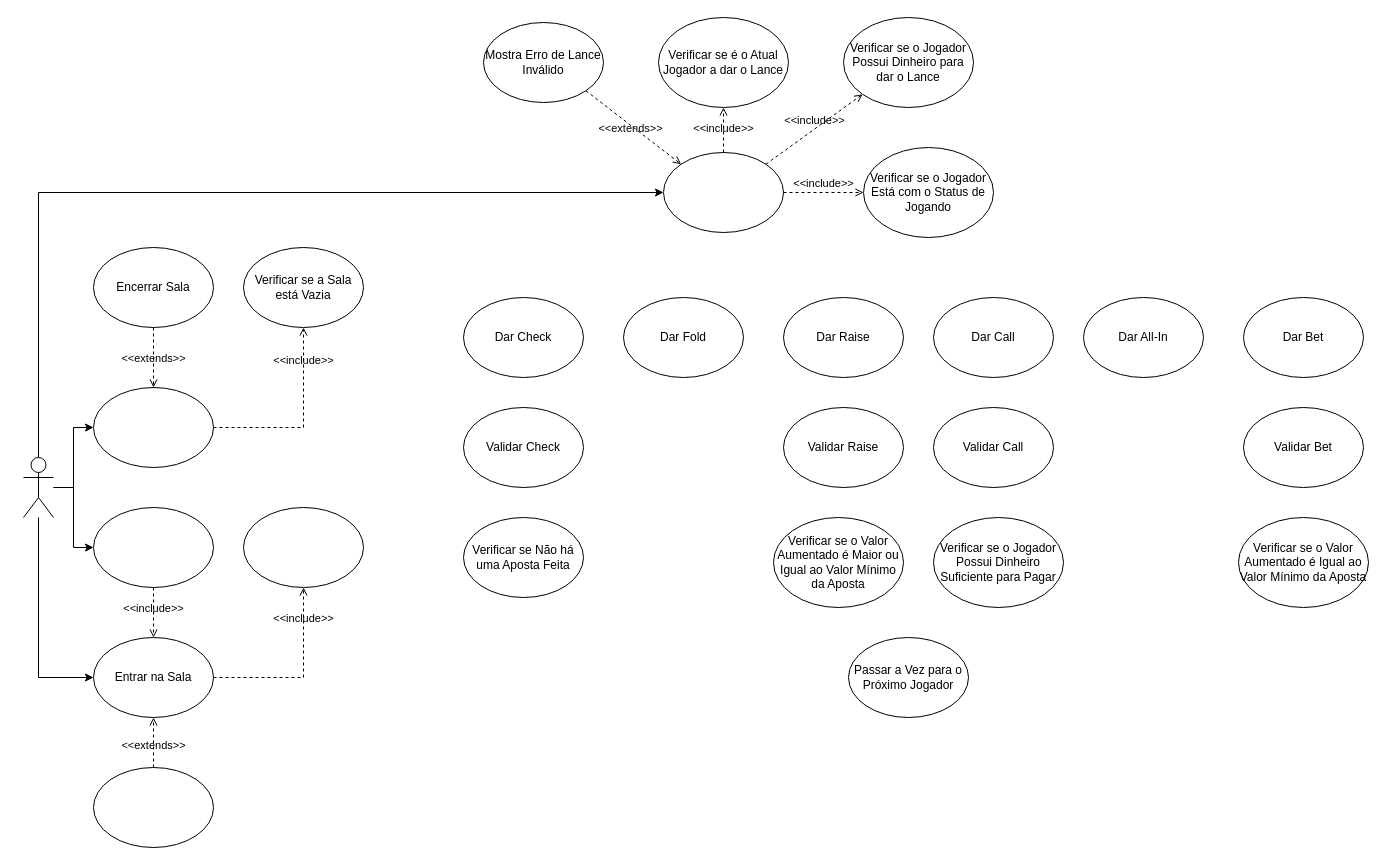
Image size: 1386x865. Some labels were removed from this diagram. Here are the shapes that lost their labels. From the top down, the centre of each, then its label:
At point 723,192: "Fazer Lance".
At point 153,427: "Sair da Sala".
At point 38,487: "Jogador".
At point 153,547: "Criar Sala".
At point 303,547: "Validar Quantidade Máxima de Jogadorers".
At point 153,807: "Mostrar Erro para Entrar na Sala".
